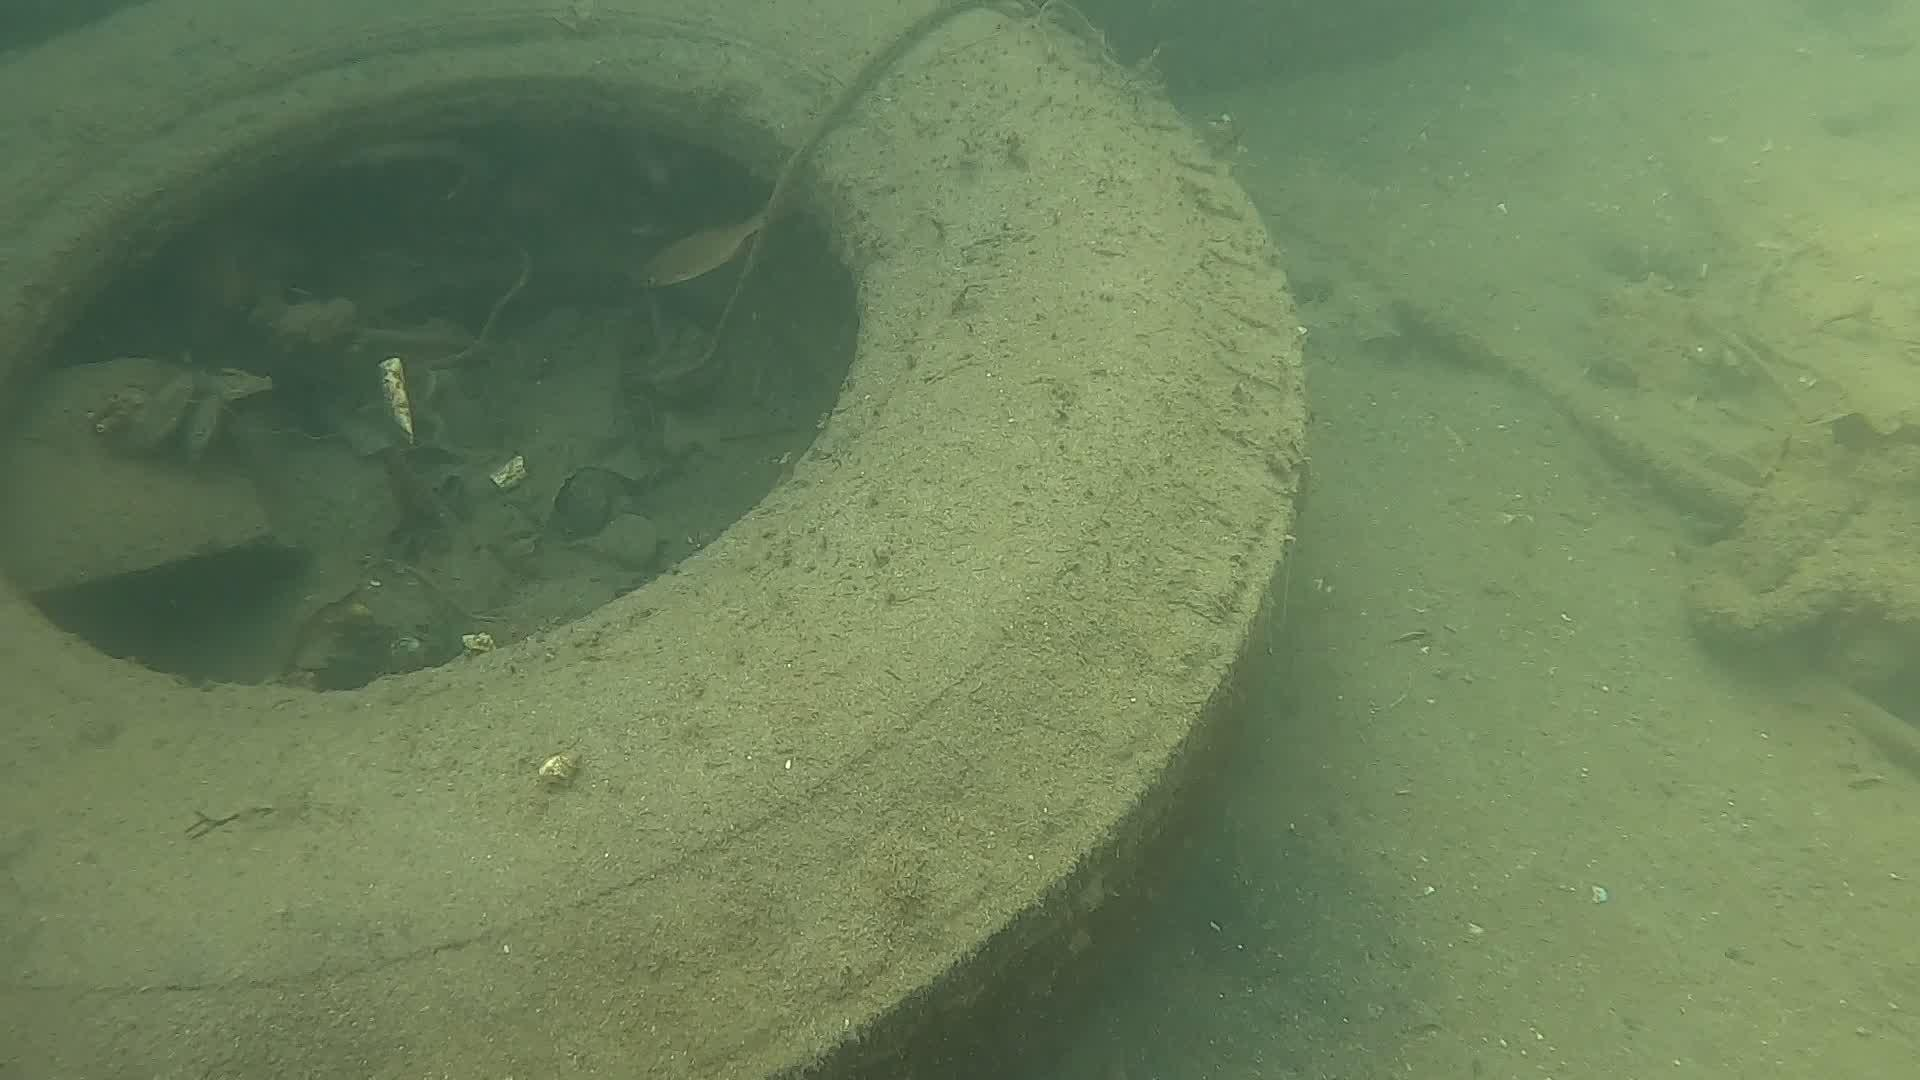tire: (0, 0, 1312, 1080)
